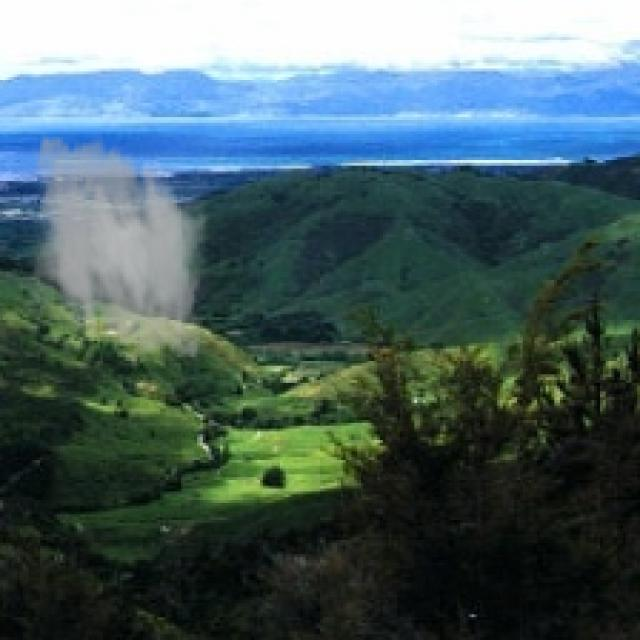smoke: (17, 125, 217, 368)
